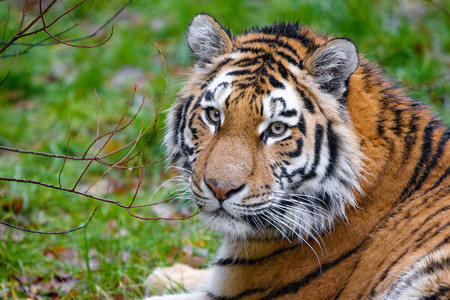Tigrew: (147, 1, 418, 271)
